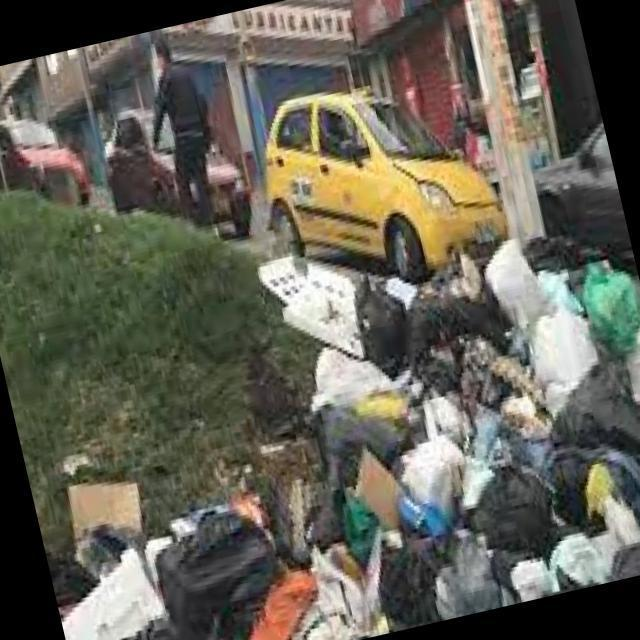garbage: (287, 216, 640, 637), (43, 480, 365, 640), (59, 462, 148, 540)
